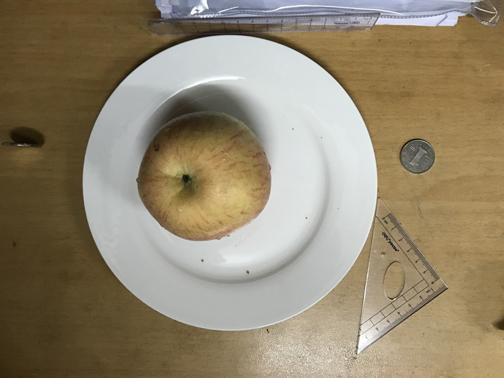apple: (130, 114, 272, 241)
coin: (399, 135, 436, 173)
